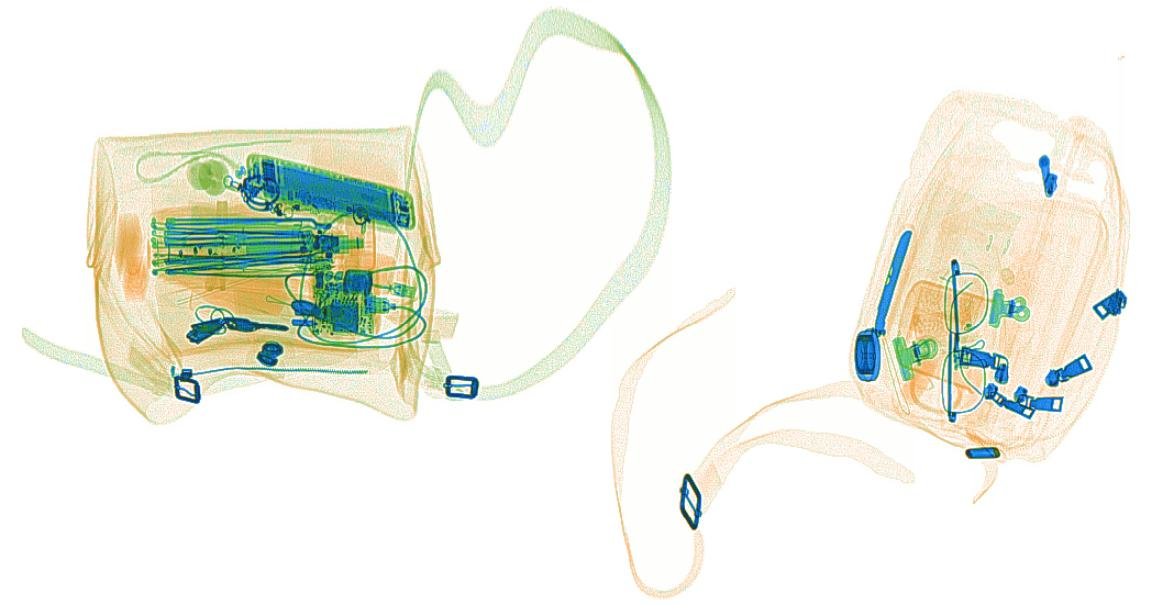knife: (870, 228, 915, 340)
